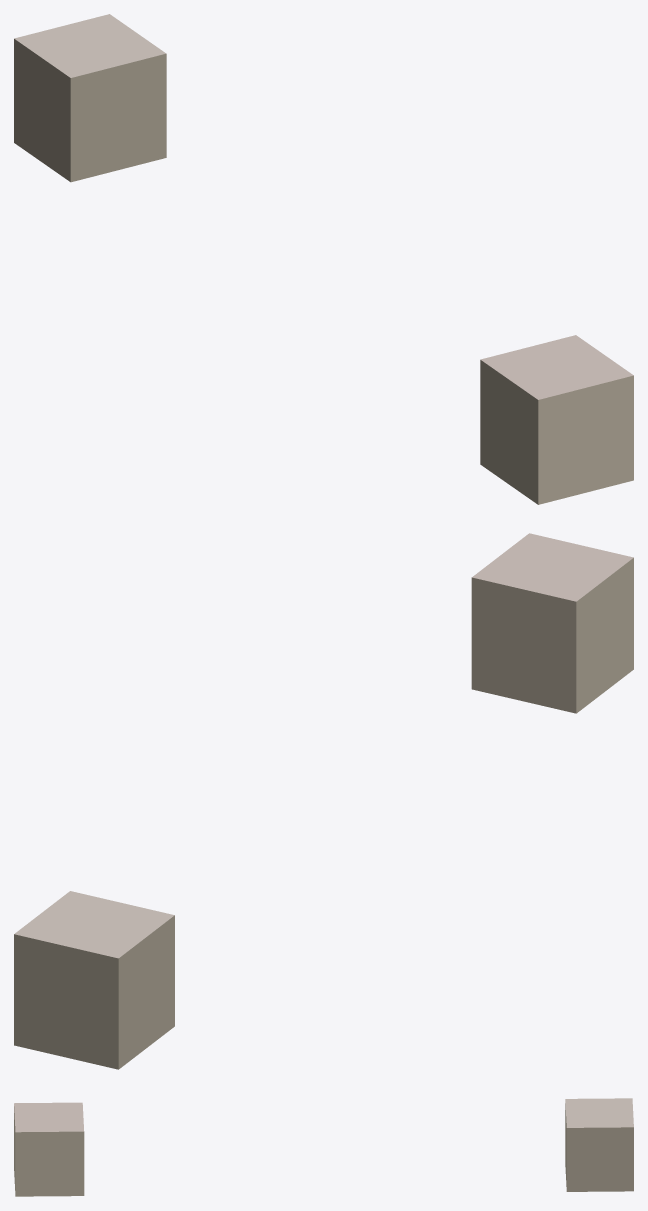
The picture shows the model from 3 angles, top to bottom: view 1: azimuth 30°, elevation 25°; view 2: azimuth 150°, elevation 25°; view 3: azimuth 270°, elevation 25°; orthographic projection. The views are drawn at different scales.
Visible parts, largest first — view 1: tuile; view 2: tuile; view 3: tuile.
Boxes of the visible parts, left/top/right/bottom form: tuile: left=14, top=14, right=633, bottom=504; tuile: left=14, top=533, right=633, bottom=1069; tuile: left=14, top=1098, right=633, bottom=1196.
Bounding box in the file's own units: 5.7 × 4.93 × 42.4.
